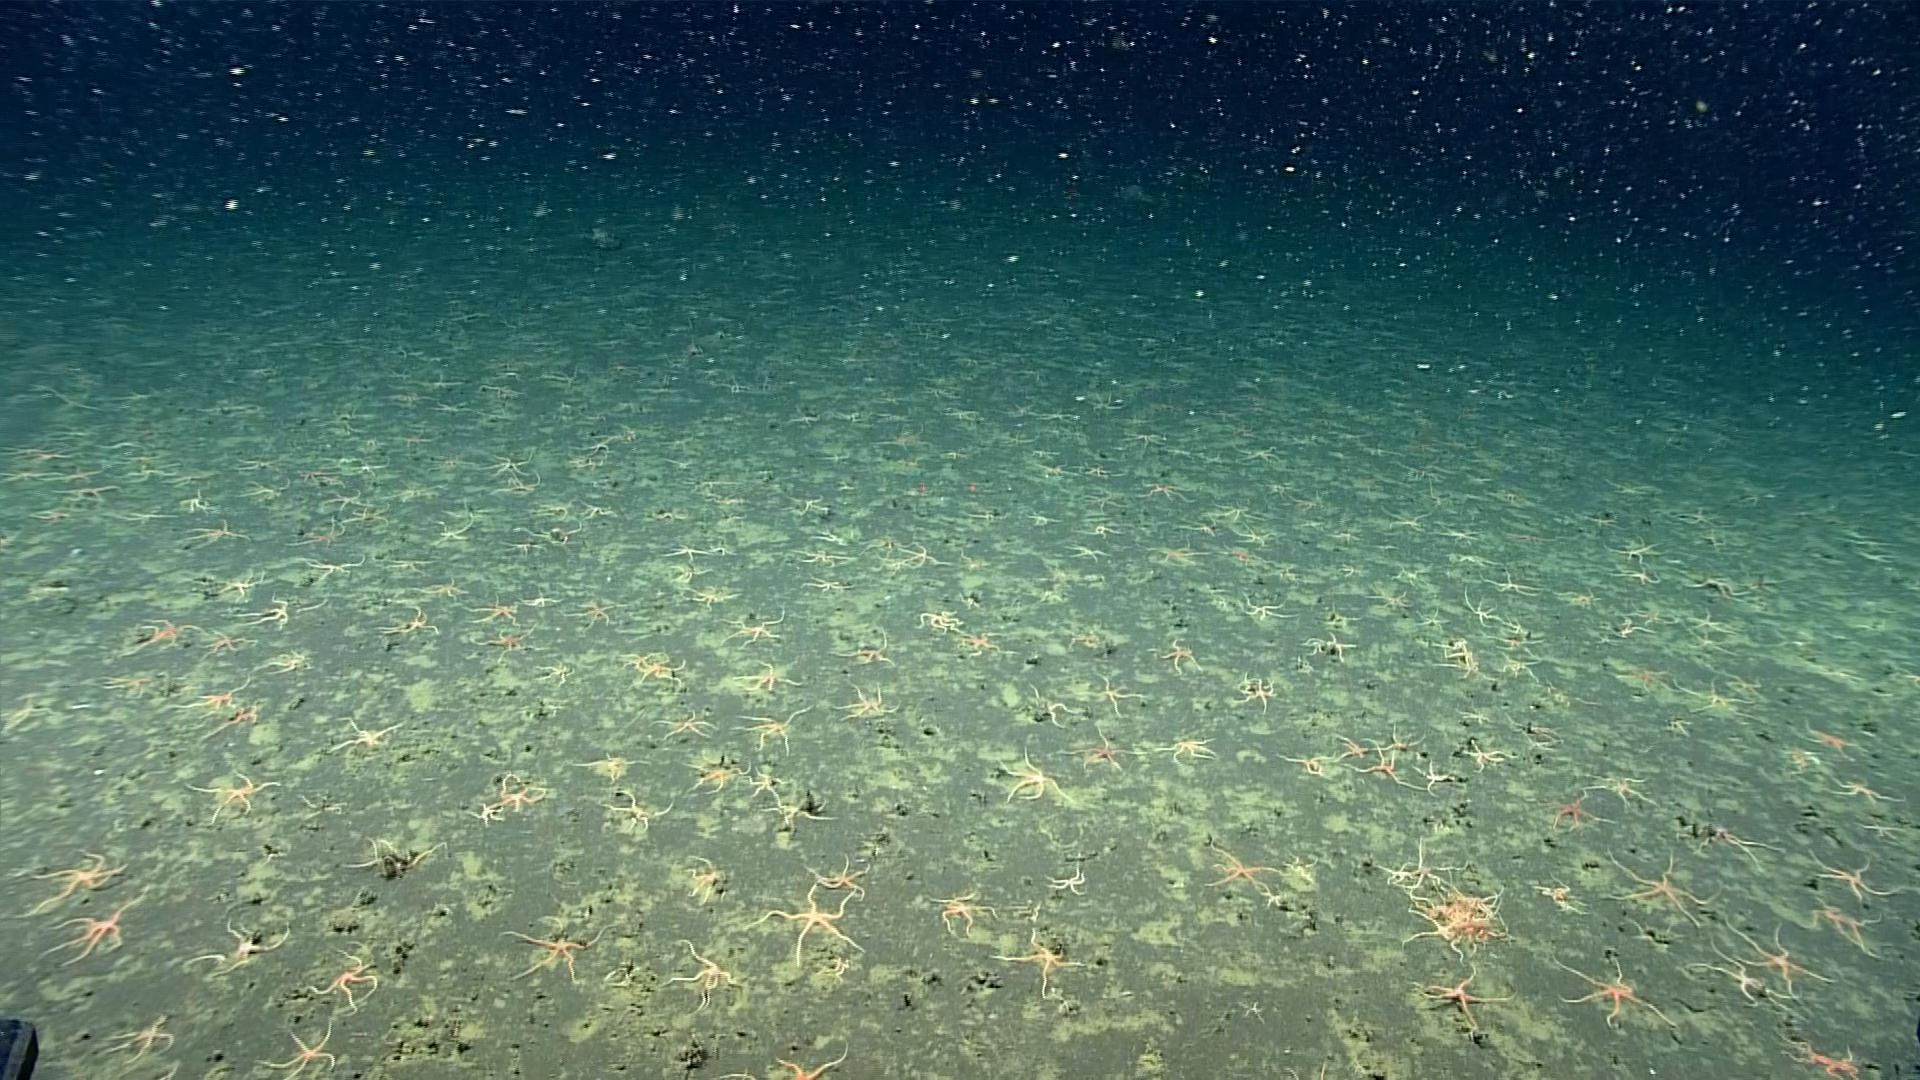brittle_sea_star: (723, 872, 857, 947), (36, 890, 148, 975), (1721, 914, 1833, 997), (17, 841, 133, 920), (1549, 952, 1671, 1025), (1604, 844, 1713, 923), (1681, 927, 1785, 1005), (484, 913, 596, 982), (1415, 967, 1518, 1040), (986, 927, 1083, 997), (181, 918, 291, 977), (303, 945, 389, 1019), (661, 936, 738, 1011), (1800, 893, 1883, 957), (181, 771, 282, 824), (256, 1017, 340, 1079), (342, 832, 448, 880), (1059, 719, 1143, 778), (986, 744, 1068, 803), (1803, 845, 1883, 901), (1688, 823, 1780, 870), (94, 1010, 175, 1063), (112, 612, 199, 661), (1398, 832, 1466, 890), (729, 702, 807, 752), (1675, 671, 1755, 719), (1528, 782, 1613, 827), (1201, 843, 1278, 891), (786, 839, 860, 889), (1772, 1031, 1859, 1073), (1341, 745, 1419, 791), (922, 885, 992, 934), (1076, 670, 1143, 720), (599, 785, 673, 829), (322, 715, 402, 756), (165, 673, 247, 712), (678, 744, 746, 790), (464, 620, 542, 658), (825, 680, 898, 721), (719, 603, 785, 647), (1793, 721, 1869, 758), (1011, 680, 1068, 729), (828, 629, 897, 669), (196, 702, 258, 745), (277, 512, 345, 550), (1396, 903, 1460, 944), (177, 516, 245, 553), (735, 655, 800, 694), (1589, 770, 1656, 807), (1824, 777, 1899, 810), (670, 852, 717, 903), (640, 702, 709, 736), (1530, 866, 1577, 916), (1147, 727, 1216, 761), (750, 781, 816, 816), (562, 742, 636, 774), (293, 551, 367, 583), (944, 626, 1010, 659), (1149, 633, 1203, 673), (371, 604, 435, 637), (1228, 670, 1278, 712), (491, 774, 547, 811), (512, 517, 587, 545), (228, 596, 289, 630), (459, 593, 521, 626), (1681, 571, 1751, 600), (210, 567, 272, 599), (194, 626, 253, 659), (1481, 567, 1538, 601), (253, 645, 314, 676), (1460, 587, 1511, 624), (1367, 724, 1429, 754), (1303, 624, 1353, 659), (1237, 591, 1291, 624), (1039, 856, 1084, 895), (1146, 541, 1212, 567), (732, 750, 774, 791), (626, 651, 686, 680), (1273, 746, 1332, 775), (1414, 754, 1457, 794), (90, 670, 152, 698), (1461, 735, 1507, 771), (1432, 650, 1489, 679), (1605, 533, 1662, 562), (411, 574, 471, 601), (916, 603, 964, 637), (899, 538, 948, 571), (559, 599, 617, 626), (785, 546, 856, 568), (1493, 649, 1542, 680), (657, 538, 717, 563), (119, 1058, 189, 1079), (680, 582, 736, 608), (430, 512, 473, 545), (1850, 811, 1905, 836), (1485, 628, 1540, 653), (1058, 625, 1102, 655), (1328, 731, 1373, 761), (1361, 584, 1412, 611), (476, 451, 530, 475), (798, 572, 855, 595), (1228, 522, 1278, 547), (1208, 496, 1261, 520), (1382, 508, 1427, 535), (336, 501, 388, 525), (1135, 476, 1185, 500), (570, 496, 615, 520), (1175, 513, 1220, 537), (1518, 715, 1560, 740), (1561, 588, 1602, 613), (1317, 601, 1354, 629), (315, 485, 360, 508), (1611, 564, 1656, 587), (1435, 522, 1480, 545), (1688, 633, 1731, 655), (1444, 550, 1493, 570), (1432, 632, 1474, 654), (464, 800, 504, 824), (1374, 856, 1410, 882), (1232, 997, 1267, 1022), (1067, 542, 1109, 563), (1689, 609, 1724, 634), (1414, 605, 1449, 629), (1610, 617, 1650, 638), (1391, 559, 1425, 583), (1654, 713, 1691, 735), (1022, 508, 1060, 527), (1080, 521, 1117, 538), (1663, 607, 1688, 630), (1495, 613, 1530, 629), (1335, 558, 1358, 576)
